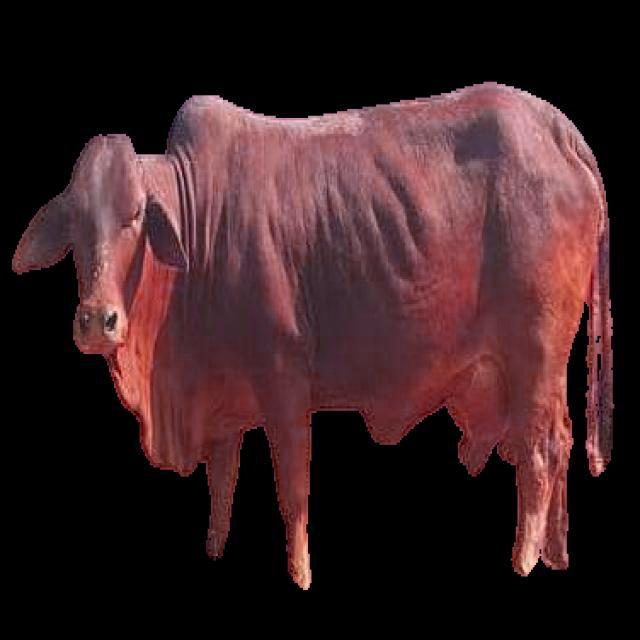cow: (12, 84, 611, 588)
